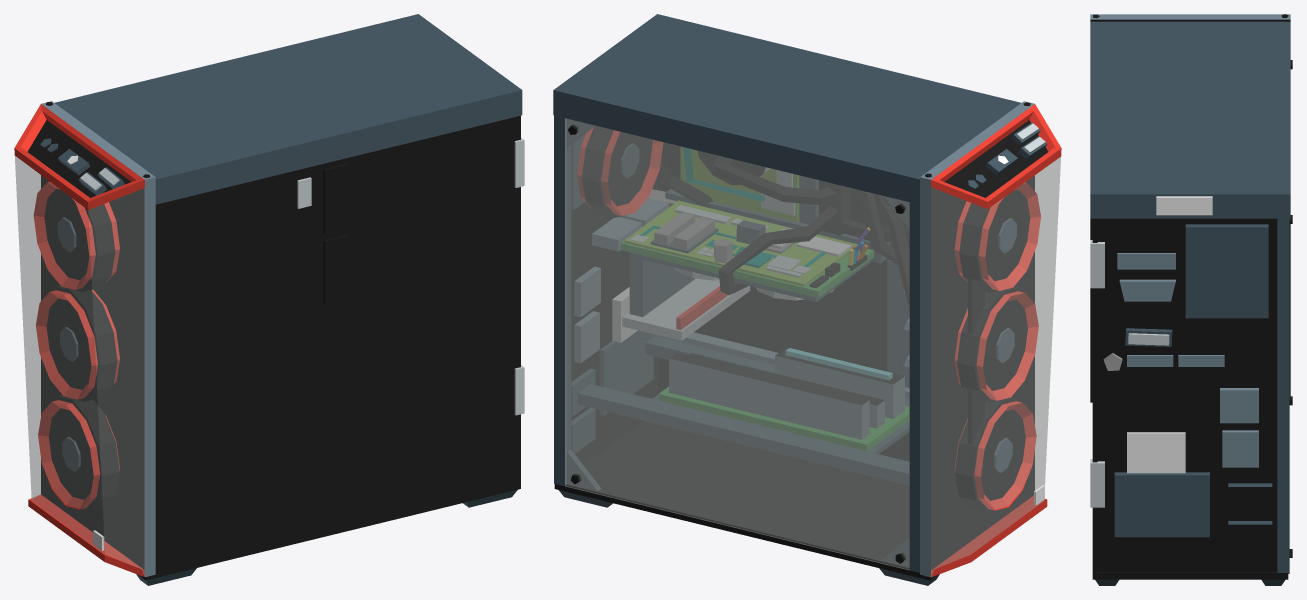
File: GamingComputer-transformed.glb
The picture shows the model from 3 angles, left to right: view 1: azimuth 30°, elevation 25°; view 2: azimuth 150°, elevation 25°; view 3: azimuth 270°, elevation 25°; orthographic projection. The views are drawn at different scales.
Parts seen in each view (by area): view 1: group549538436, group706968164, group997898928, group1722992837; view 2: group549538436, group706968164, group997898928, group1186992705, group1722992837, group1799644813, group1817044955, group676697694, group1004135894, group194524521; view 3: group706968164, group549538436, group997898928, group676697694, group1722992837.
Boxes of the visible parts, x1=… form: group549538436: x1=14, y1=102, x2=520, y2=580; group706968164: x1=40, y1=14, x2=522, y2=585; group997898928: x1=41, y1=101, x2=155, y2=576; group1722992837: x1=80, y1=137, x2=524, y2=415; group549538436: x1=554, y1=102, x2=1061, y2=580; group706968164: x1=553, y1=14, x2=1046, y2=585; group997898928: x1=574, y1=101, x2=1034, y2=577; group1186992705: x1=624, y1=147, x2=857, y2=286; group1722992837: x1=622, y1=123, x2=1045, y2=340; group1799644813: x1=621, y1=146, x2=909, y2=450; group1817044955: x1=648, y1=189, x2=796, y2=262; group676697694: x1=612, y1=155, x2=1044, y2=505; group1004135894: x1=640, y1=147, x2=825, y2=267; group194524521: x1=786, y1=348, x2=892, y2=379; group706968164: x1=1090, y1=21, x2=1290, y2=585; group549538436: x1=1090, y1=14, x2=1292, y2=579; group997898928: x1=1090, y1=14, x2=1290, y2=467; group676697694: x1=1127, y1=196, x2=1212, y2=473; group1722992837: x1=1090, y1=240, x2=1169, y2=507.
Size of the model in its own units: 1.94 by 1.8 by 0.8277.
